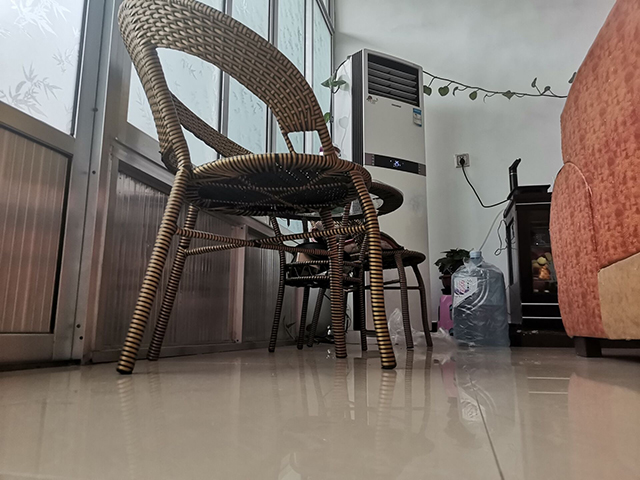stool: (110, 1, 399, 377), (262, 204, 437, 353)
table: (261, 178, 405, 360)
